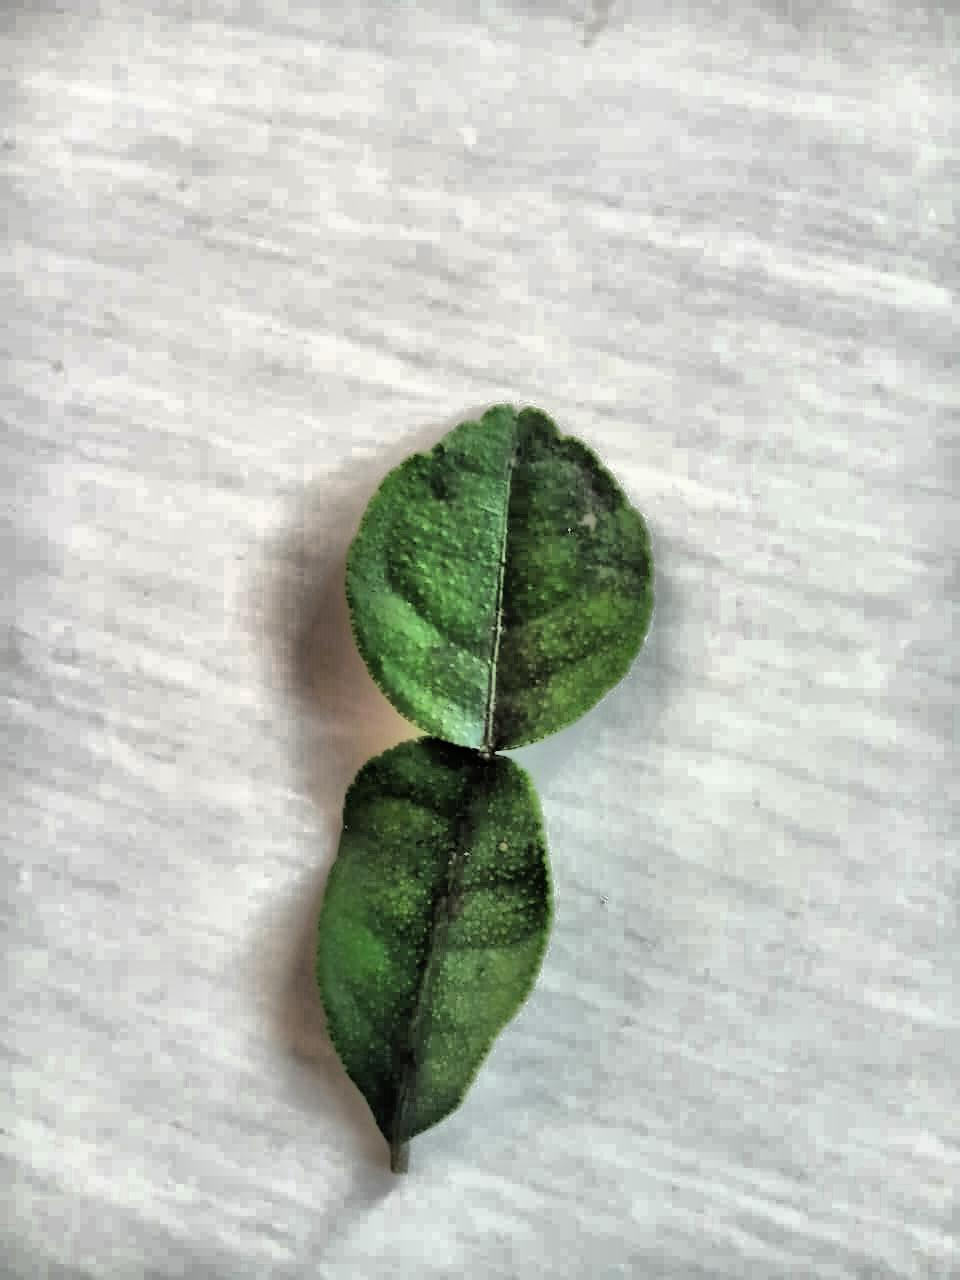daun jeruk: (347, 405, 652, 751), (316, 738, 551, 1171)
